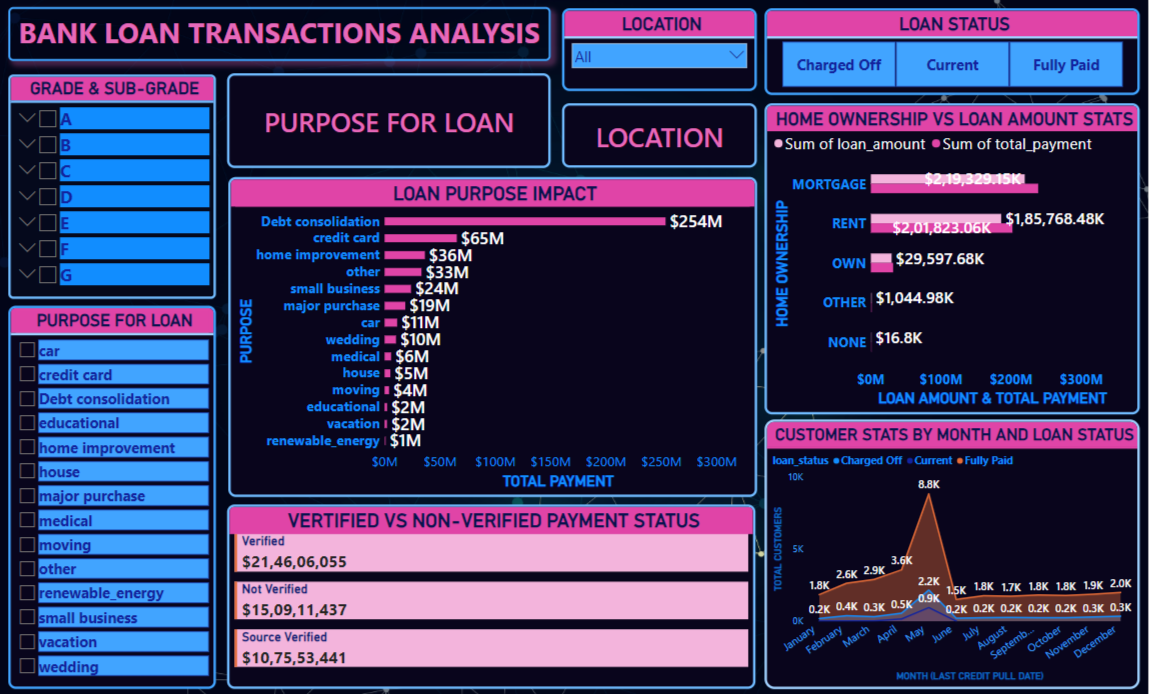

The page's visual inventory and layout, read from the dashboard file:
{"tool":"powerbi","page":{"name":"PAGE 4 ","canvas":[2300,1400],"ordinal":3},"visuals":[{"type":"textbox","box":[20.5,17.9,1084.6,107.7],"z":0},{"type":"slicer","title":"GRADE & SUB-GRADE","fields":{"Values":["financial_loan.grade","financial_loan.sub_grade"]},"box":[20.5,151.3,415.4,448.7],"z":1000},{"type":"slicer","title":"PURPOSE FOR LOAN","fields":{"Values":["financial_loan.purpose"]},"box":[20.5,615.4,415.4,766.7],"z":2000},{"type":"slicer","title":"LOAN STATUS","fields":{"Values":["financial_loan.loan_status"]},"box":[1533.3,19,750,173.8],"z":3000},{"type":"clusteredBarChart","title":"HOME OWNERSHIP VS LOAN AMOUNT STATS","fields":{"Category":["financial_loan.home_ownership"],"Y":["Sum(financial_loan.loan_amount)","Sum(financial_loan.total_payment)"]},"box":[1533.3,211.1,750,622.2],"z":4000},{"type":"card","fields":{"Values":["financial_loan.COUNTRY SELECT"]},"box":[1126.3,210.5,389.5,128.9],"z":5000},{"type":"slicer","title":"LOCATION","fields":{"Values":["financial_loan.address_state"]},"box":[1126.3,21.1,389.5,165.8],"z":7000},{"type":"card","title":"PURPOSE","fields":{"Values":["financial_loan.Purpose Measure"]},"box":[457.9,150,647.4,189.5],"z":8000},{"type":"multiRowCard","title":"VERTIFIED VS NON-VERIFIED PAYMENT STATUS","fields":{"Values":["Sum(financial_loan.total_payment)","financial_loan.verification_status"]},"box":[458.4,1013,1057.1,368.8],"z":9000},{"type":"barChart","title":"LOAN PURPOSE IMPACT","fields":{"Category":["financial_loan.purpose"],"Y":["Sum(financial_loan.total_payment)"]},"box":[460,357.5,1057.5,640],"z":10000},{"type":"areaChart","title":"CUSTOMER STATS BY MONTH AND LOAN STATUS","fields":{"Category":["financial_loan.last_credit_pull_date.Variation.Date Hierarchy.Month"],"Series":["financial_loan.loan_status"],"Y":["financial_loan.Total Customers"]},"box":[1533,842,750,539],"z":11000}]}

Visuals, with their boxes in screenshot pixels (x1, y1, x2, y2), scaled from the page's 2300x1400 canvas onto the 1149x694 screenshot:
textbox: rect(10, 9, 552, 62)
"GRADE & SUB-GRADE" slicer: rect(10, 75, 218, 297)
"PURPOSE FOR LOAN" slicer: rect(10, 305, 218, 685)
"LOAN STATUS" slicer: rect(766, 9, 1141, 96)
"HOME OWNERSHIP VS LOAN AMOUNT STATS" clusteredBarChart: rect(766, 105, 1141, 413)
card - financial_loan.COUNTRY SELECT: rect(563, 104, 757, 168)
"LOCATION" slicer: rect(563, 10, 757, 93)
"PURPOSE" card: rect(229, 74, 552, 168)
"VERTIFIED VS NON-VERIFIED PAYMENT STATUS" multiRowCard: rect(229, 502, 757, 685)
"LOAN PURPOSE IMPACT" barChart: rect(230, 177, 758, 494)
"CUSTOMER STATS BY MONTH AND LOAN STATUS" areaChart: rect(766, 417, 1141, 685)
